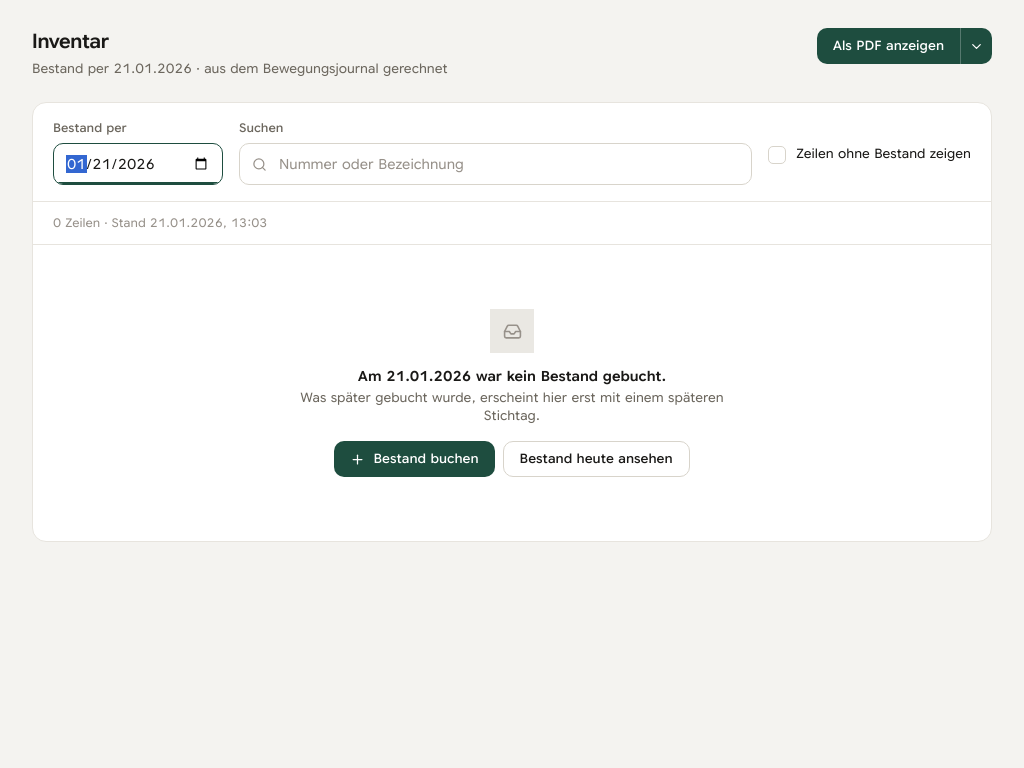
it: StockAsOfPage › stockAsOfPageOffersTheBookingDialogWhereNothingIsBookedTest
Click the button "Bestand buchen": (415, 459) x1=334 y1=441 x2=495 y2=477
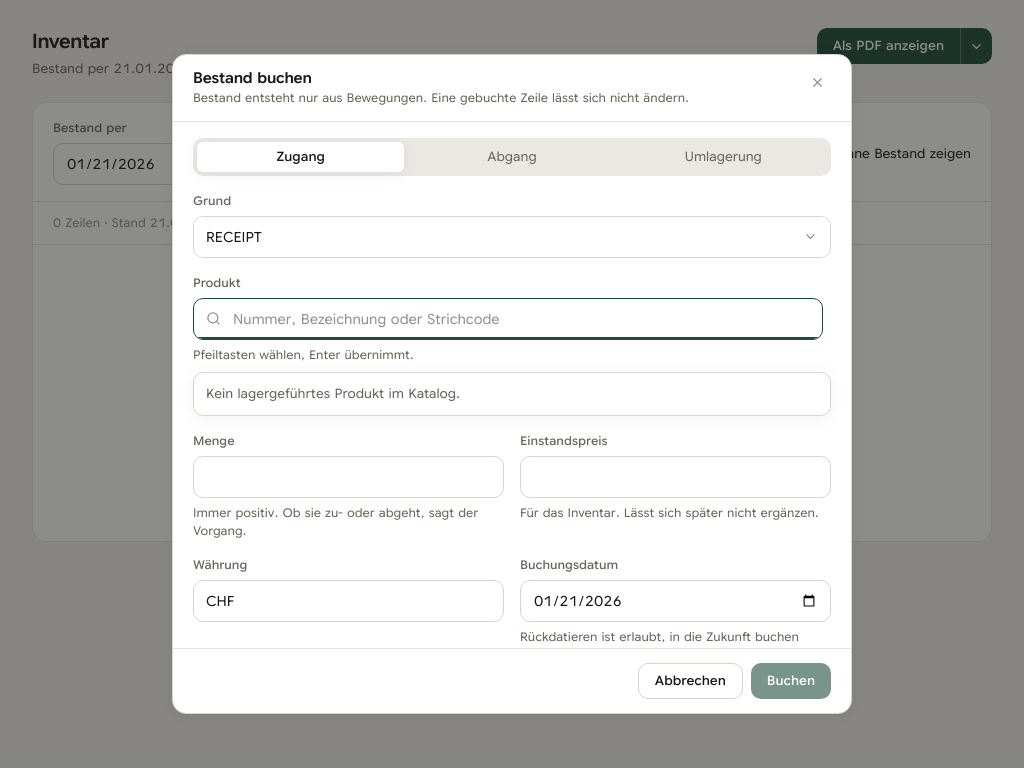
Now the text "Bestand entsteht nur aus Bewegungen" is shown, box x1=193 y1=90 x2=689 y2=105
